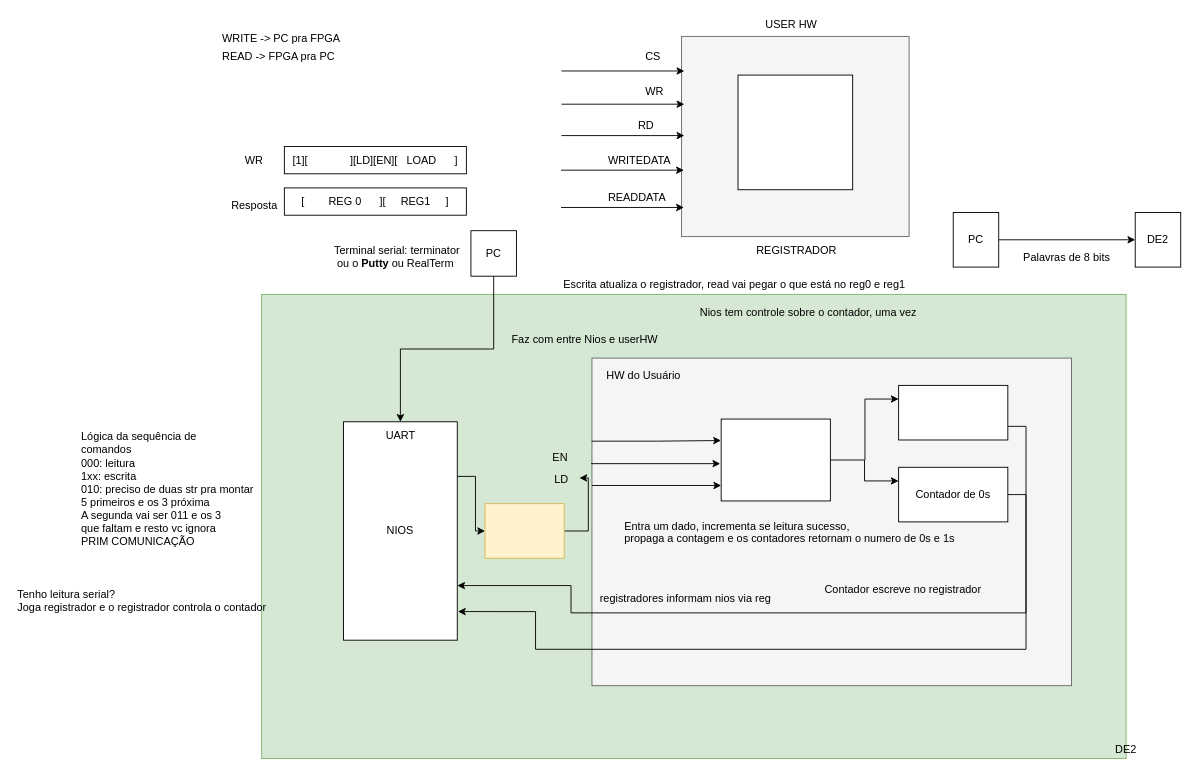
This 1197x774 diagram has some shape labels left out. Here are the shapes that lost their labels. From the top down, the box of each, then its label:
(737, 74, 853, 190): Q <== D
(898, 384, 1008, 440): Contador de 1s
(720, 418, 830, 501): Contador 8 bits
(484, 503, 564, 558): Registrador? 16 bits
